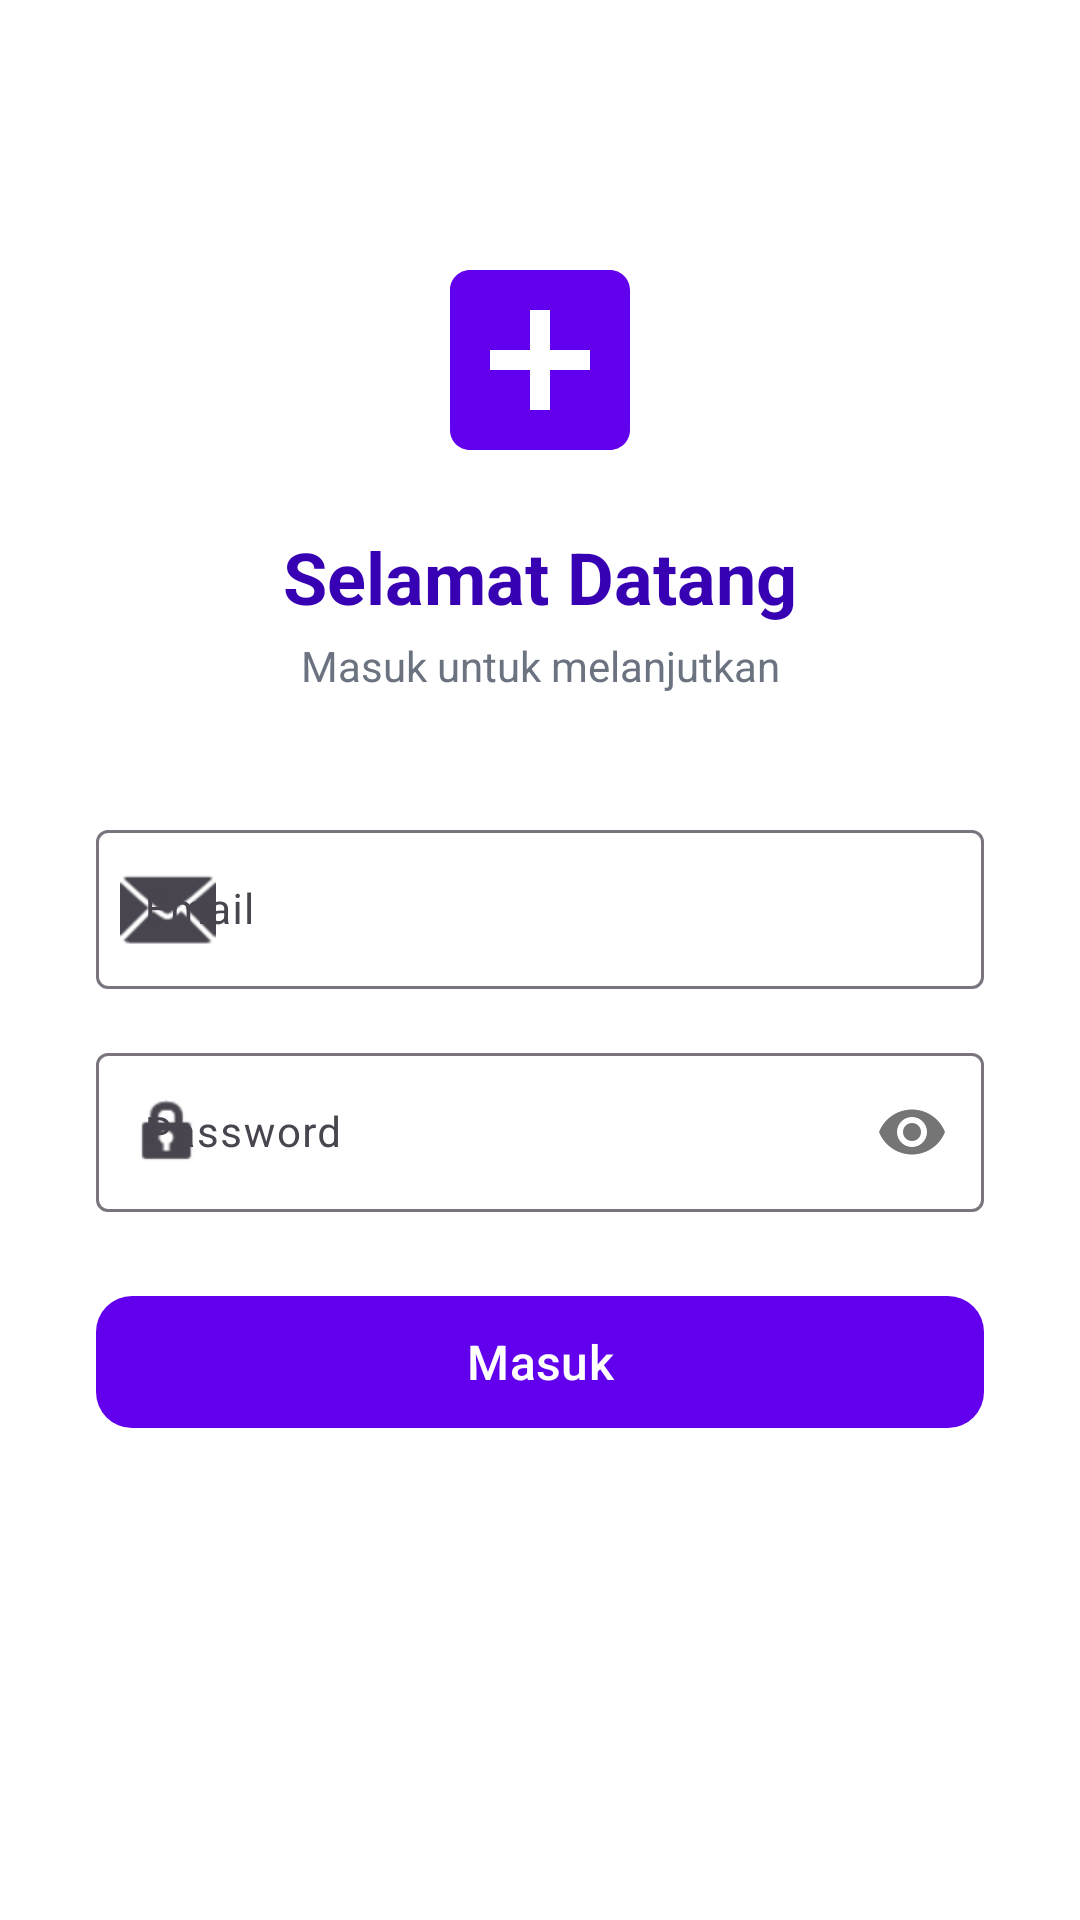

Where icons sit on this 1080 × 1920 app screen, as rect(x1, y1, x2, y2):
medical: rect(450, 270, 630, 450)
